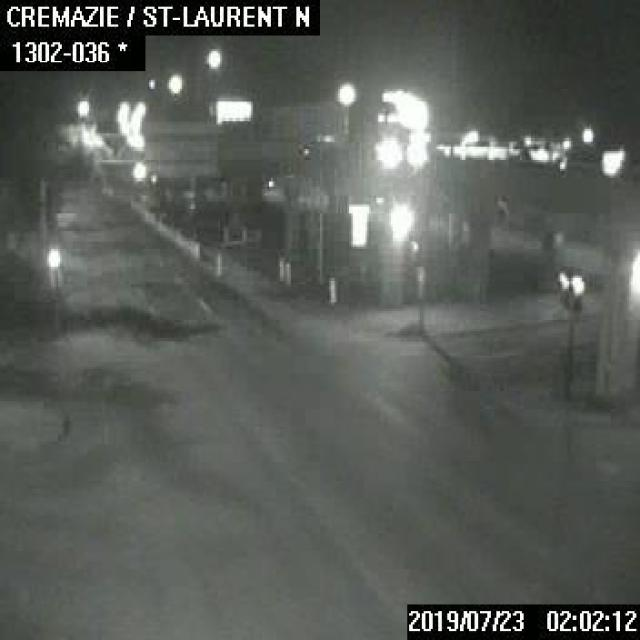vehicle: (360, 131, 431, 168)
